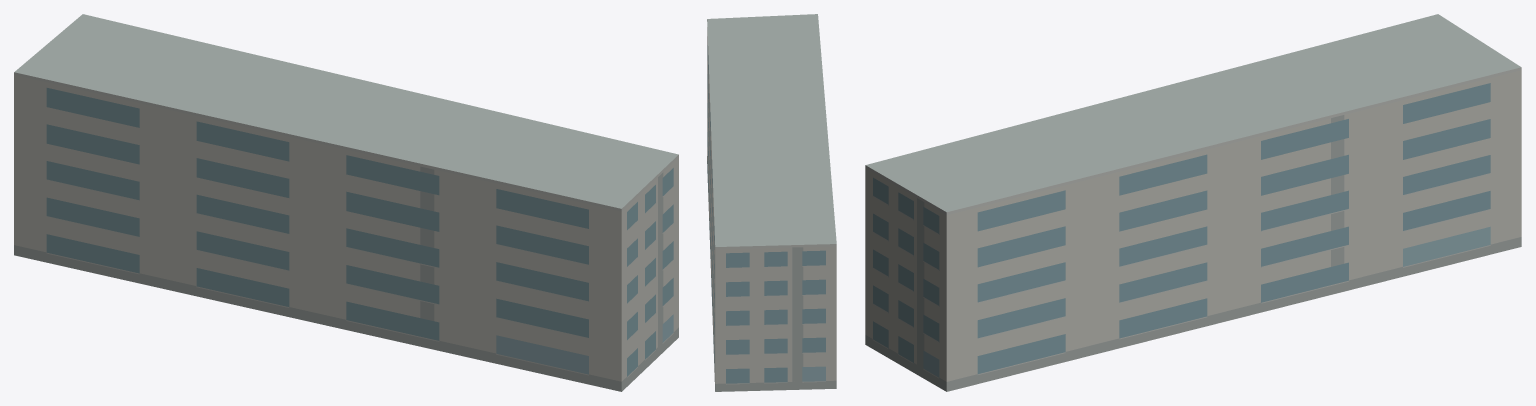
The model's file is residential-4eca0104-5126-4bcc-ab7e-bd0ca3b071bb.glb.
3 renders of one model, left to right at view 1: azimuth 30°, elevation 25°; view 2: azimuth 150°, elevation 25°; view 3: azimuth 270°, elevation 25°, orthographic. The views are drawn at different scales.
Parts seen in each view (by area): view 1: residential-4eca0104-5126-4bcc-ab7e-bd0ca3b071bb.tmp; view 2: residential-4eca0104-5126-4bcc-ab7e-bd0ca3b071bb.tmp; view 3: residential-4eca0104-5126-4bcc-ab7e-bd0ca3b071bb.tmp.
Boxes of the visible parts, x1,y1,x2,y2 form: residential-4eca0104-5126-4bcc-ab7e-bd0ca3b071bb.tmp: (14, 14, 678, 391); residential-4eca0104-5126-4bcc-ab7e-bd0ca3b071bb.tmp: (707, 14, 836, 391); residential-4eca0104-5126-4bcc-ab7e-bd0ca3b071bb.tmp: (865, 14, 1521, 391).
Size of the model in its own units: 36.12 by 15.25 by 50.49.
